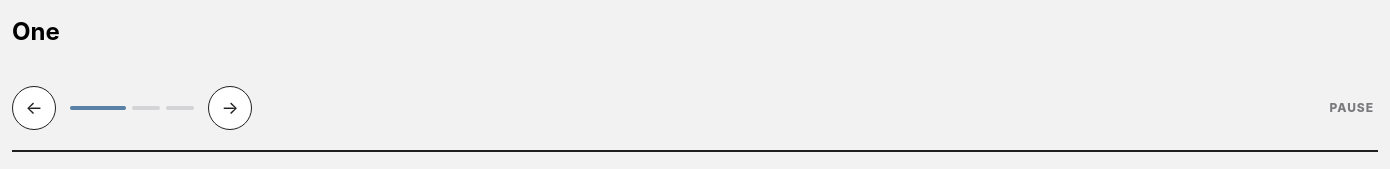
Test: LeadCarousel › dots jump straight to a story
The image size is (1390, 169).
Click the button named "Show lead story 3 of 3": point(180, 108) x1=166 y1=86 x2=194 y2=130
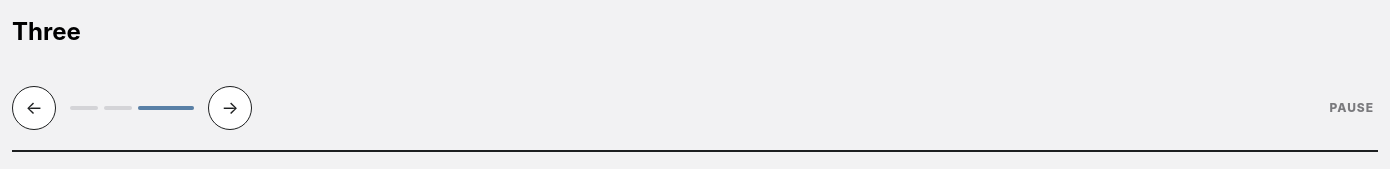
Result: the element with class "is-active" reads "Three" at x1=12 y1=17 x2=81 y2=46
